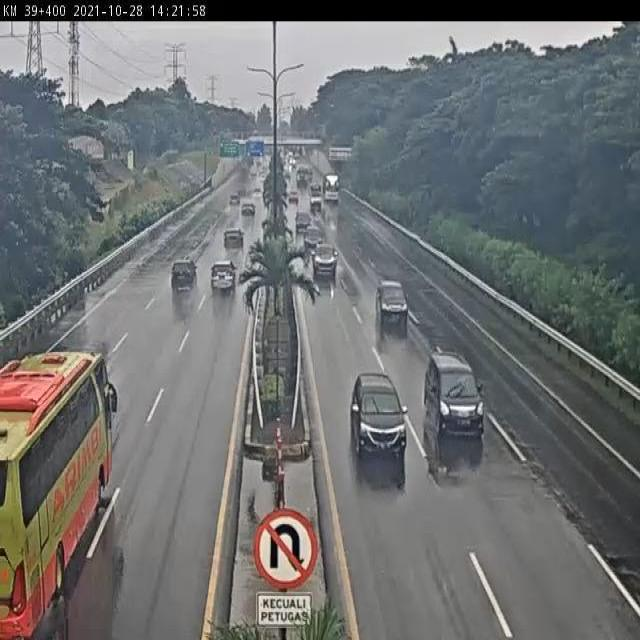big bus: (0, 342, 114, 640)
car: (423, 348, 488, 444), (348, 369, 407, 460), (372, 274, 409, 326), (169, 255, 200, 292), (207, 258, 238, 294), (311, 235, 337, 273), (223, 225, 247, 252), (302, 224, 324, 251), (294, 208, 313, 235)
